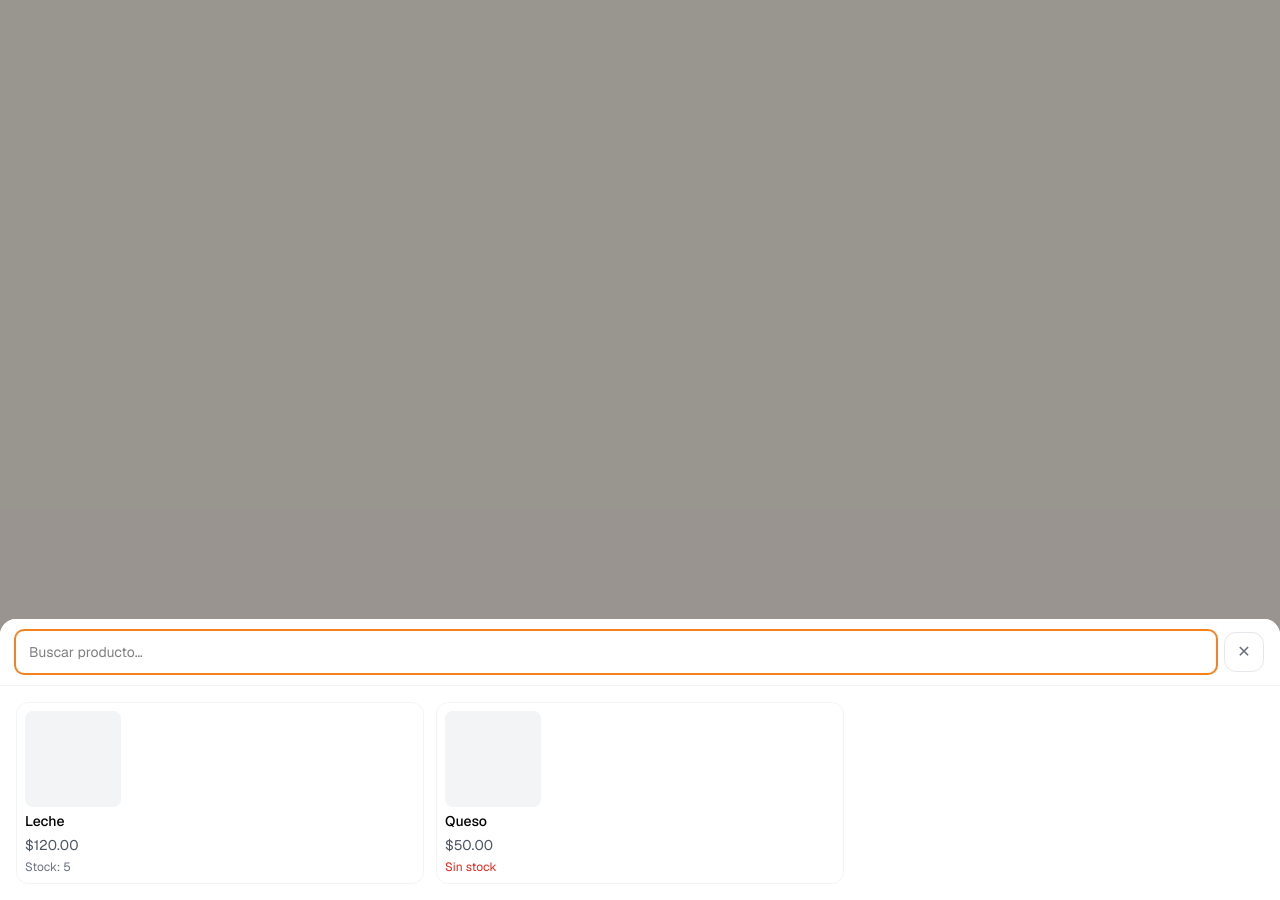
Test: ProductPicker — behavioral (VPP-T2) › no matches → "Sin resultados para" empty state (S3-4)
Type "xyzzy" into the field labelled "Buscar producto" at (616, 652), box [16, 631, 1216, 673]
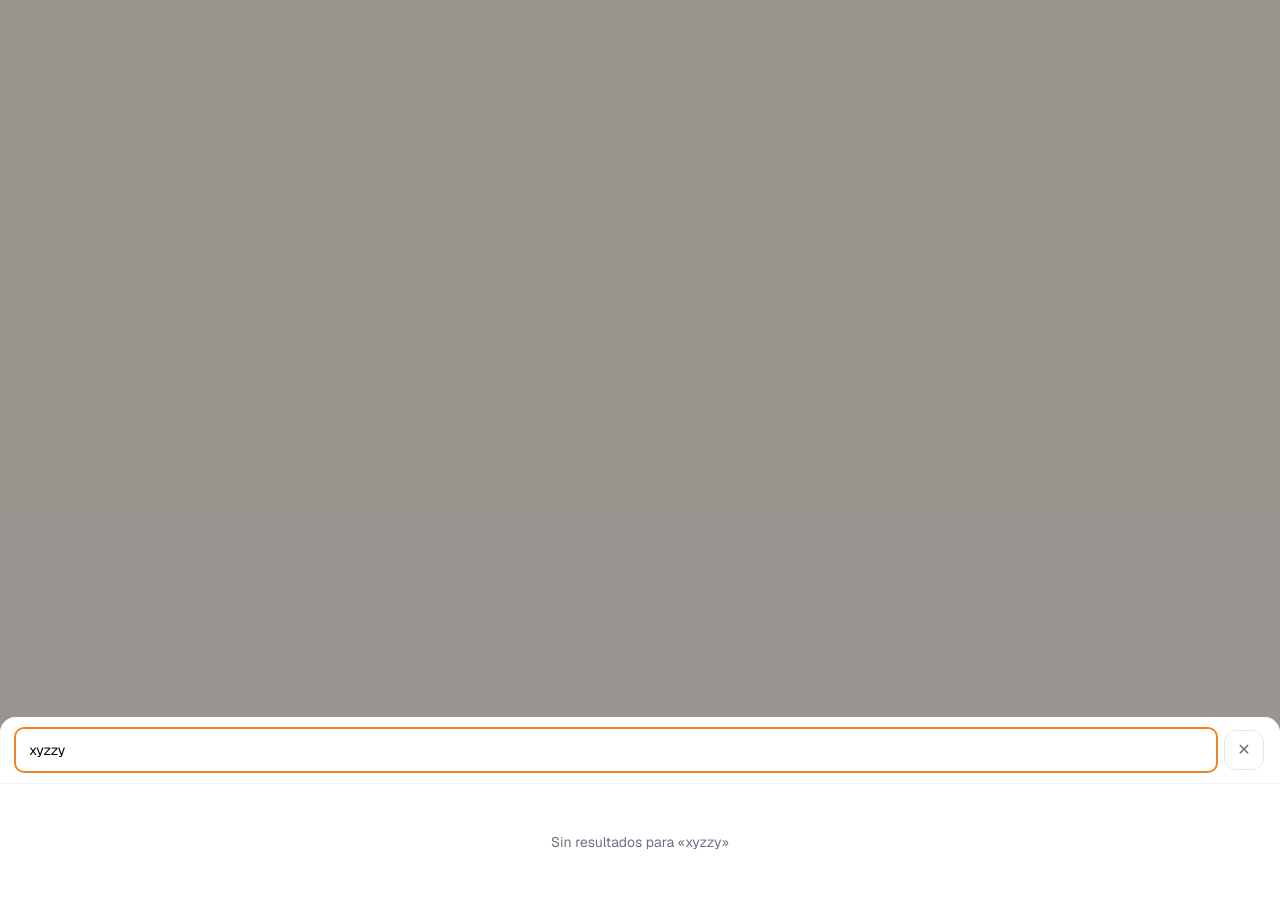
Now the text "Sin resultados para «xyzzy»" is shown, box [551, 833, 729, 851]
Now the button "Leche" is gone
Now the button "Queso" is gone
